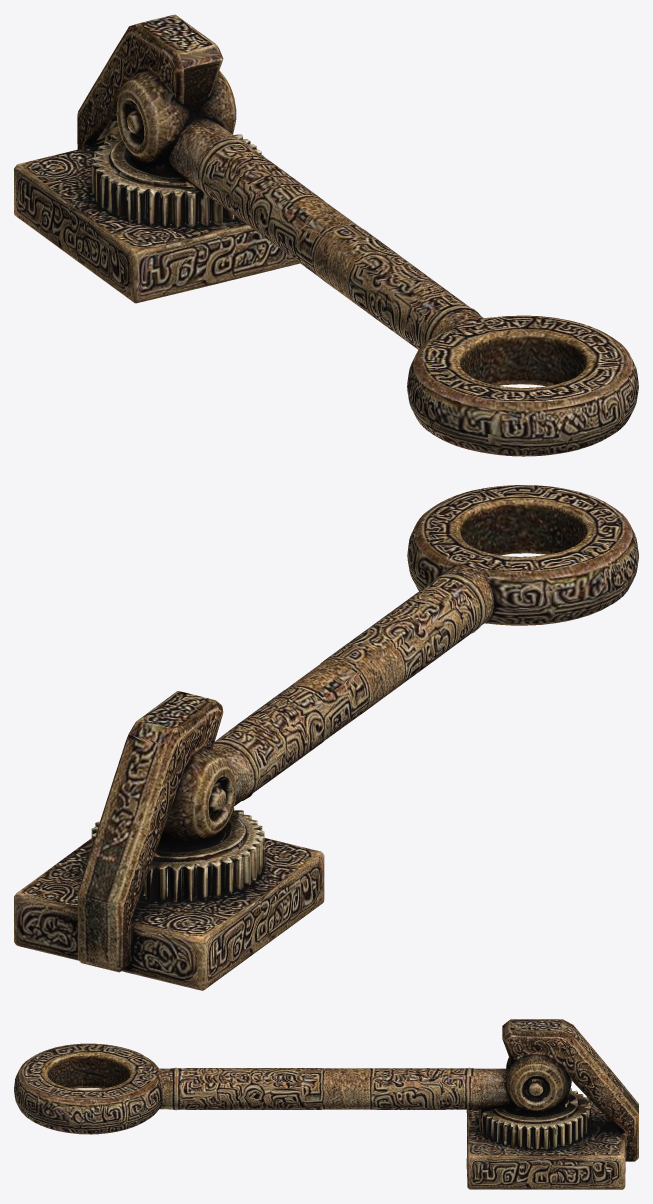
Rendered from lever.glb.
The picture shows the model from 3 angles, top to bottom: view 1: azimuth 30°, elevation 25°; view 2: azimuth 150°, elevation 25°; view 3: azimuth 270°, elevation 25°; orthographic projection. The views are drawn at different scales.
Parts seen in each view (by area): view 1: mesh; view 2: mesh; view 3: mesh.
Part boxes in pixels (bbox=[...]): mesh: bbox=[14, 14, 638, 456]; mesh: bbox=[14, 485, 638, 990]; mesh: bbox=[14, 1019, 638, 1189].
Size of the model in its own units: 0.2399 by 0.2387 by 1.
1 material, 1 textured.
